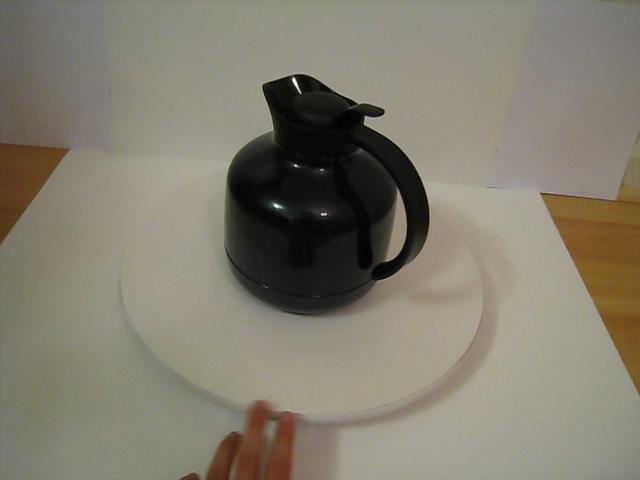pitcher: (202, 76, 445, 344)
